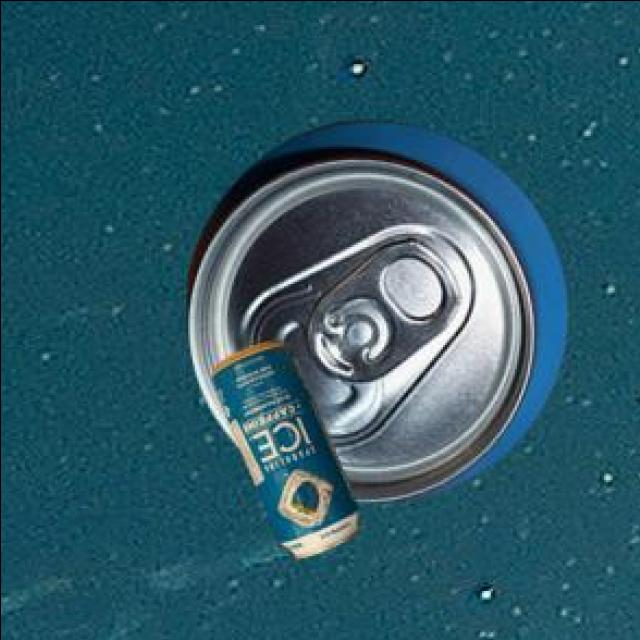logam: (190, 123, 571, 504), (214, 345, 360, 561)
